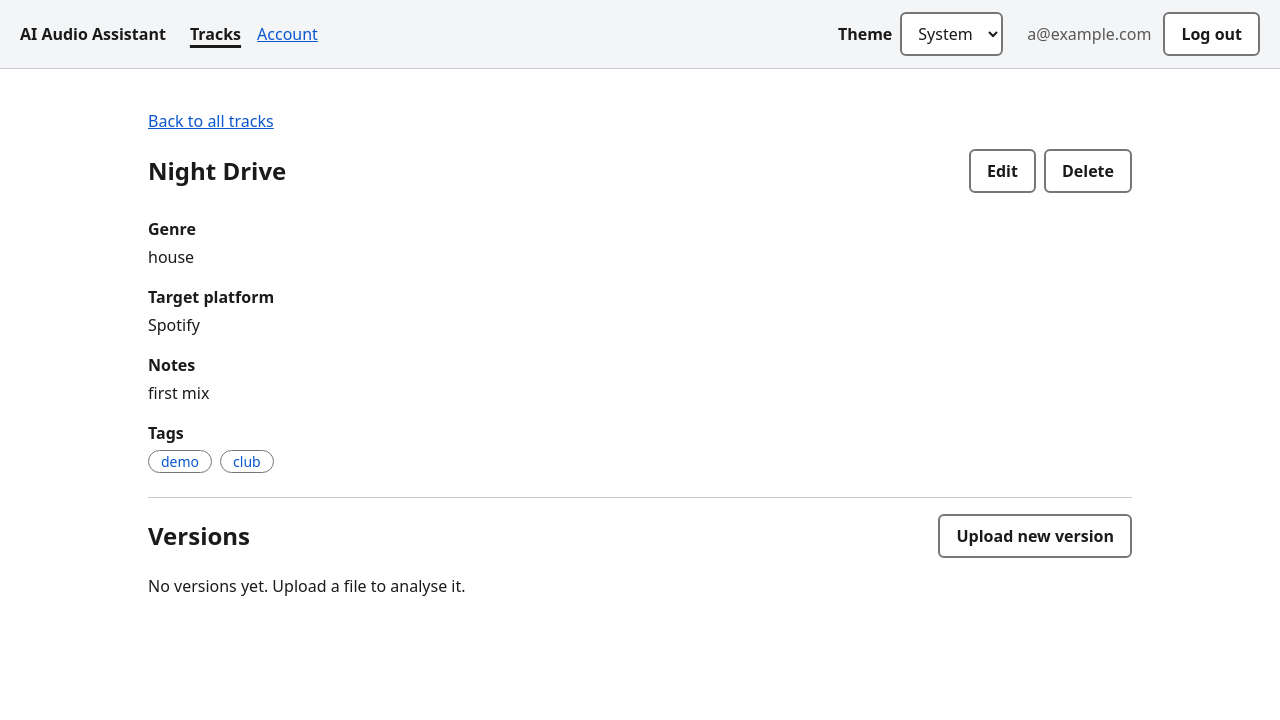
editing › opens the edit dialog and shows the saved changes in place
This screenshot has width=1280, height=720.
Expected: the heading "Night Drive" is shown, [148,153,286,189]
Click the button "Edit" at (1002, 171), box [969,149,1036,193]
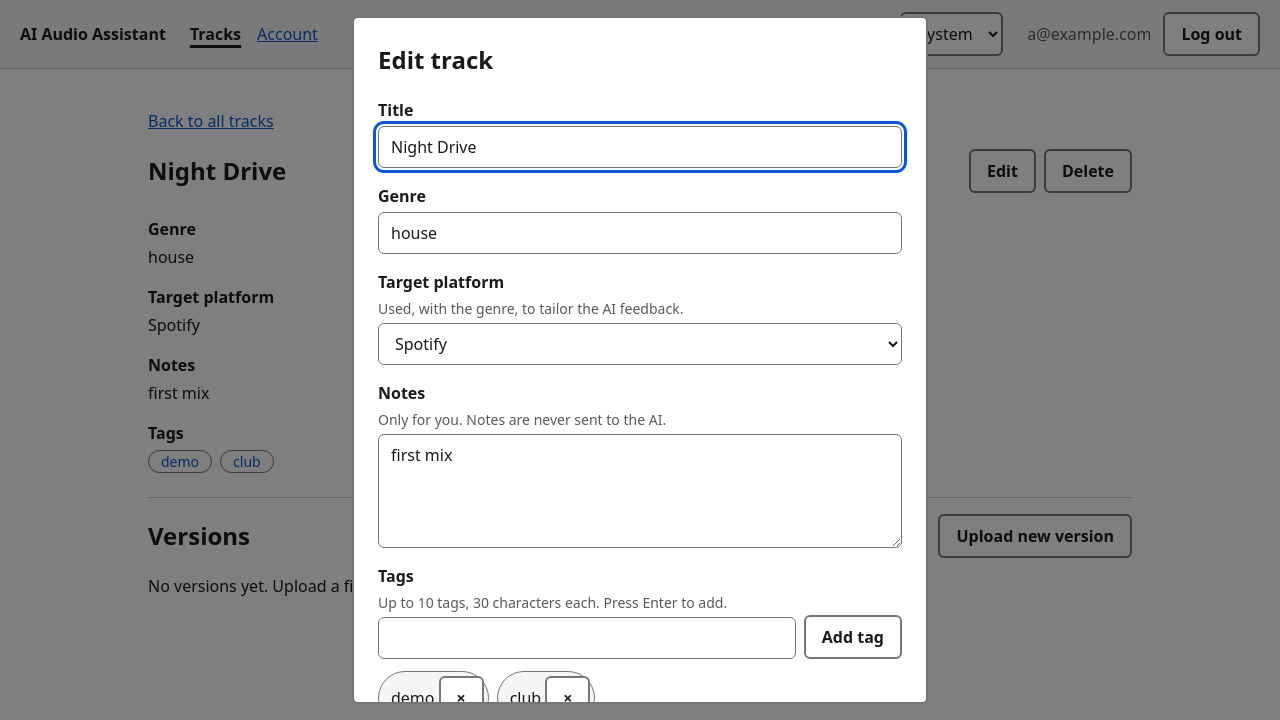
Result: the dialog "Edit track" is shown at [352,16,928,704]
Replace the text in the field labelled "Title" with "Renamed" at (640, 147), box [378,126,902,168]
(page scrolled)
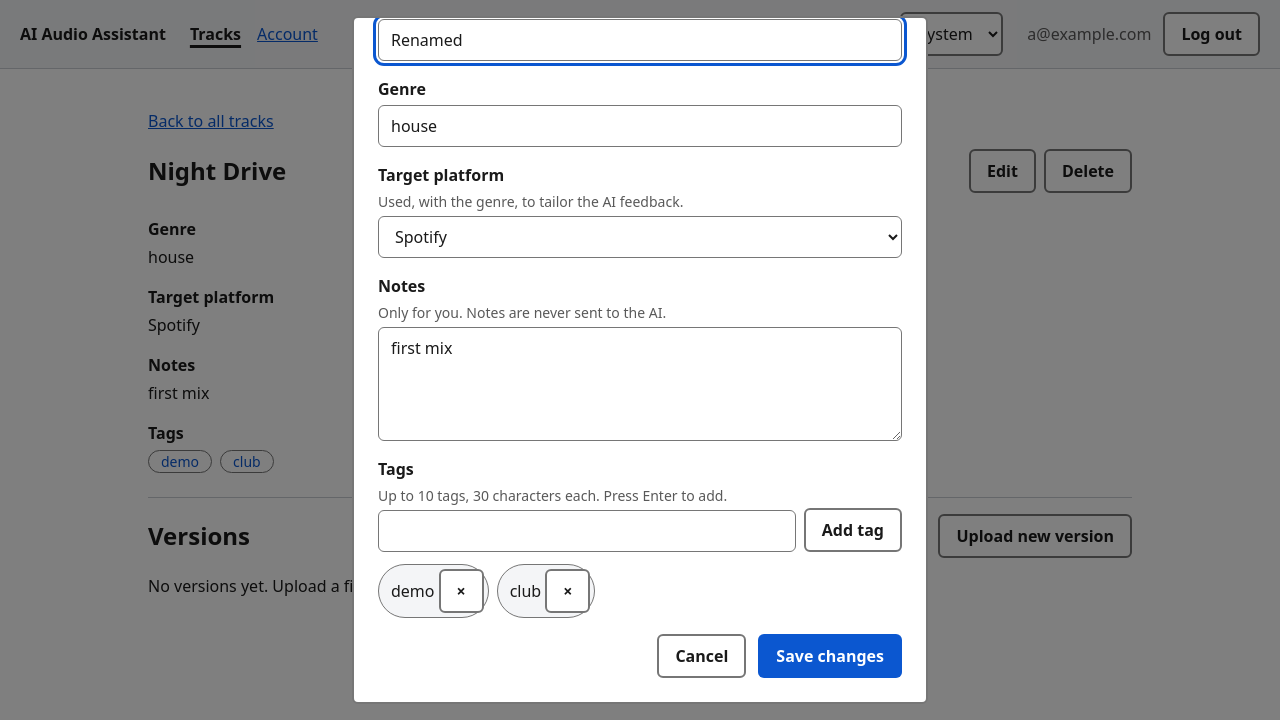
Click the button "Save changes" at (830, 656), box [758,634,902,678]
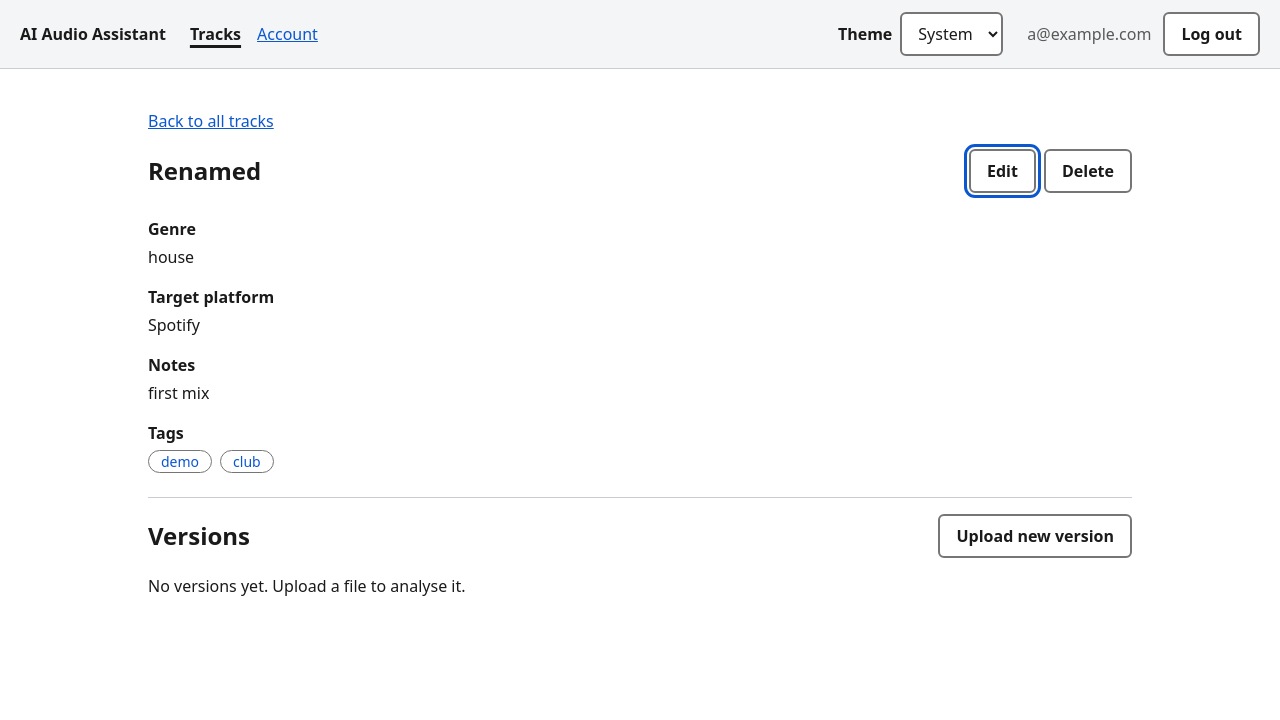
Result: the heading "Renamed" is shown at [148,153,261,189]
Result: the dialog is gone
